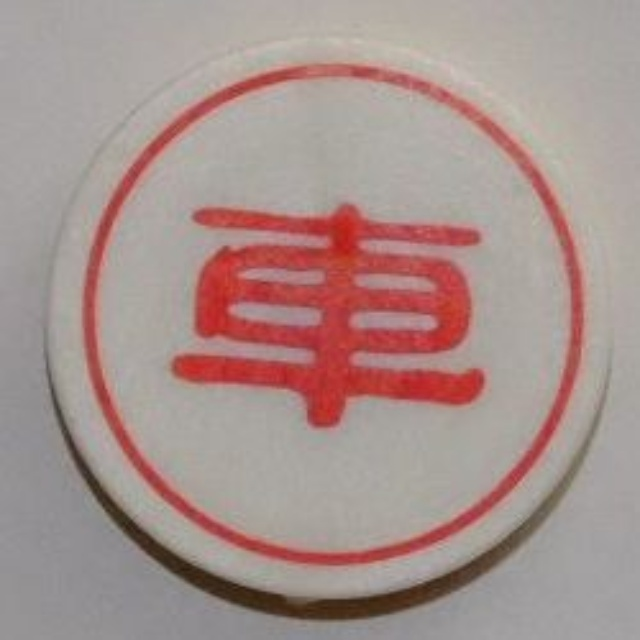red_xe: (40, 26, 628, 610)
